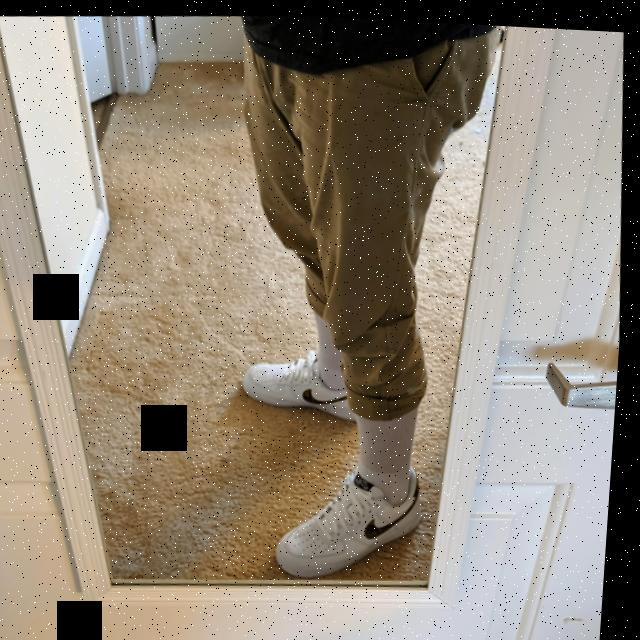shoes: (275, 452, 435, 581), (242, 339, 368, 425)
